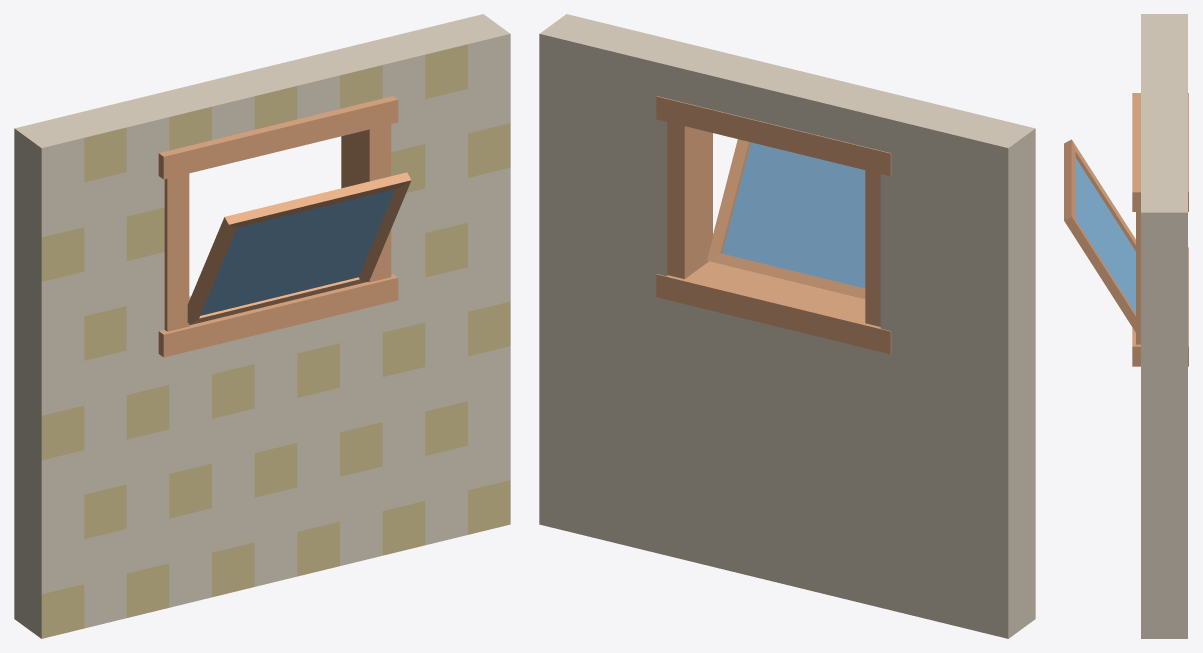
The model's file is Window.fbx.
3 views of the same model, side by side, from view 1: azimuth 30°, elevation 25°; view 2: azimuth 150°, elevation 25°; view 3: azimuth 270°, elevation 25° (orthographic). The views are drawn at different scales.
Visible parts, largest first — view 1: Cube, Cube.001; view 2: Cube, Cube.001; view 3: Cube, Cube.001.
Part boxes in pixels (x1,y1,x2,y2): Cube: (14, 14, 510, 638); Cube.001: (187, 172, 411, 325); Cube: (539, 14, 1035, 638); Cube.001: (707, 139, 865, 298); Cube: (1132, 14, 1188, 638); Cube.001: (1064, 139, 1135, 332).
Bounding box in the file's own units: 400 × 400 × 106.
